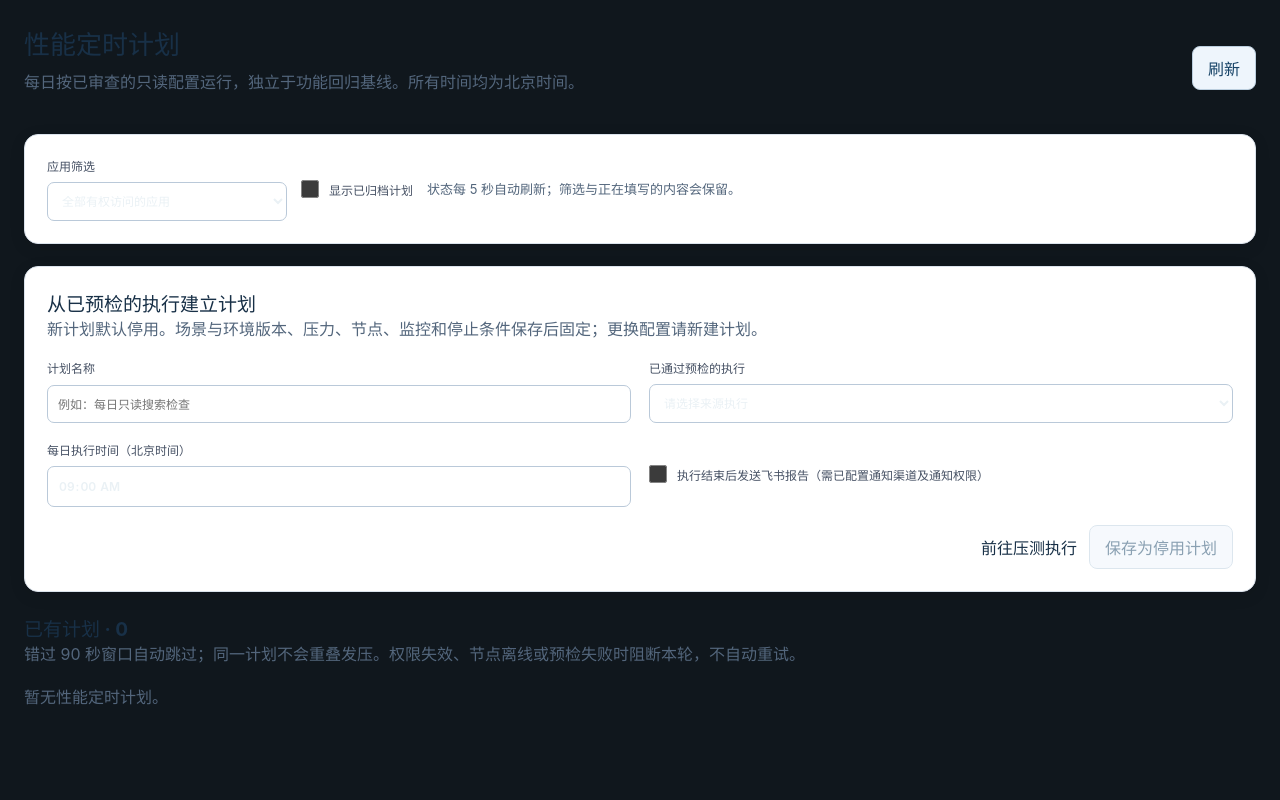
creates only disabled schedules with explicit notification choice
Type "每日检查" into the field named "name". click: (339,404)
box: top-left (47, 385), bottom-right (631, 423)
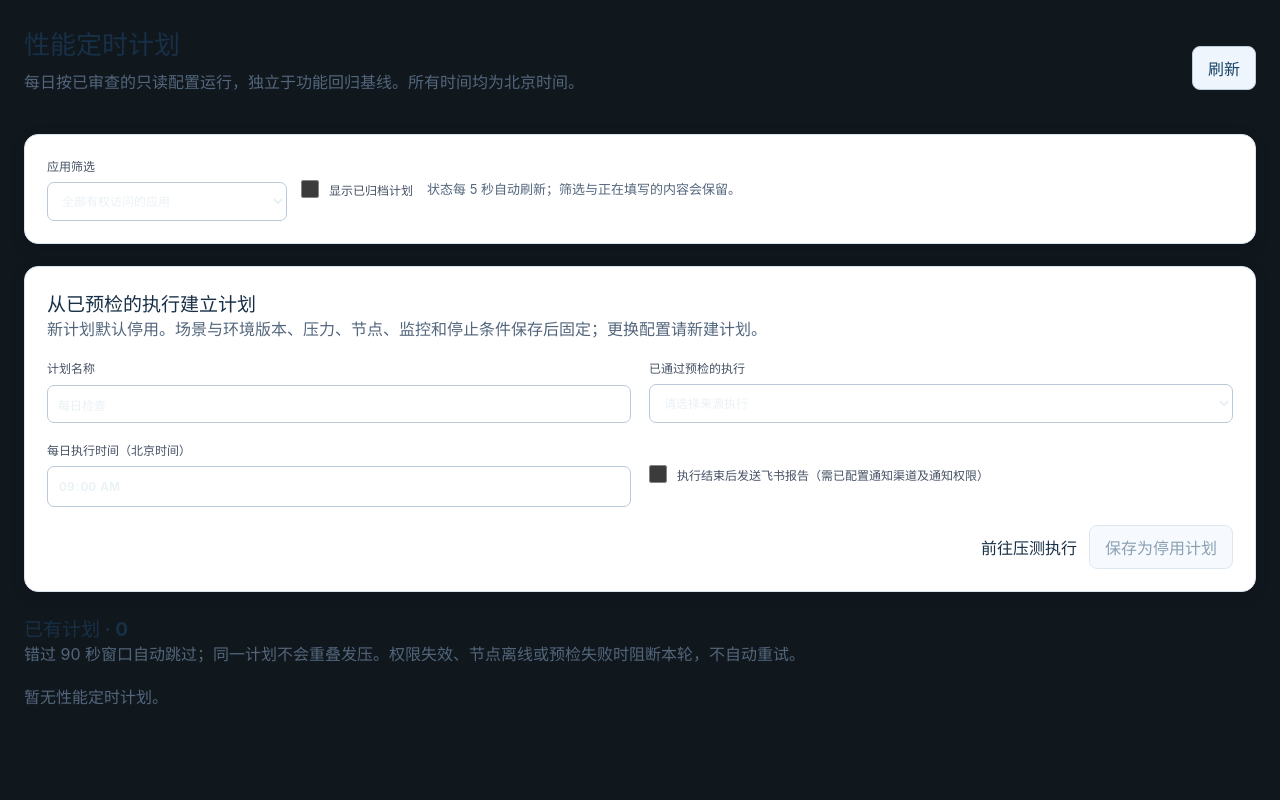
Select "只读查询 · 固定环境 · r1" in the dropdown named "source". click: (941,404)
box: top-left (649, 384), bottom-right (1233, 423)
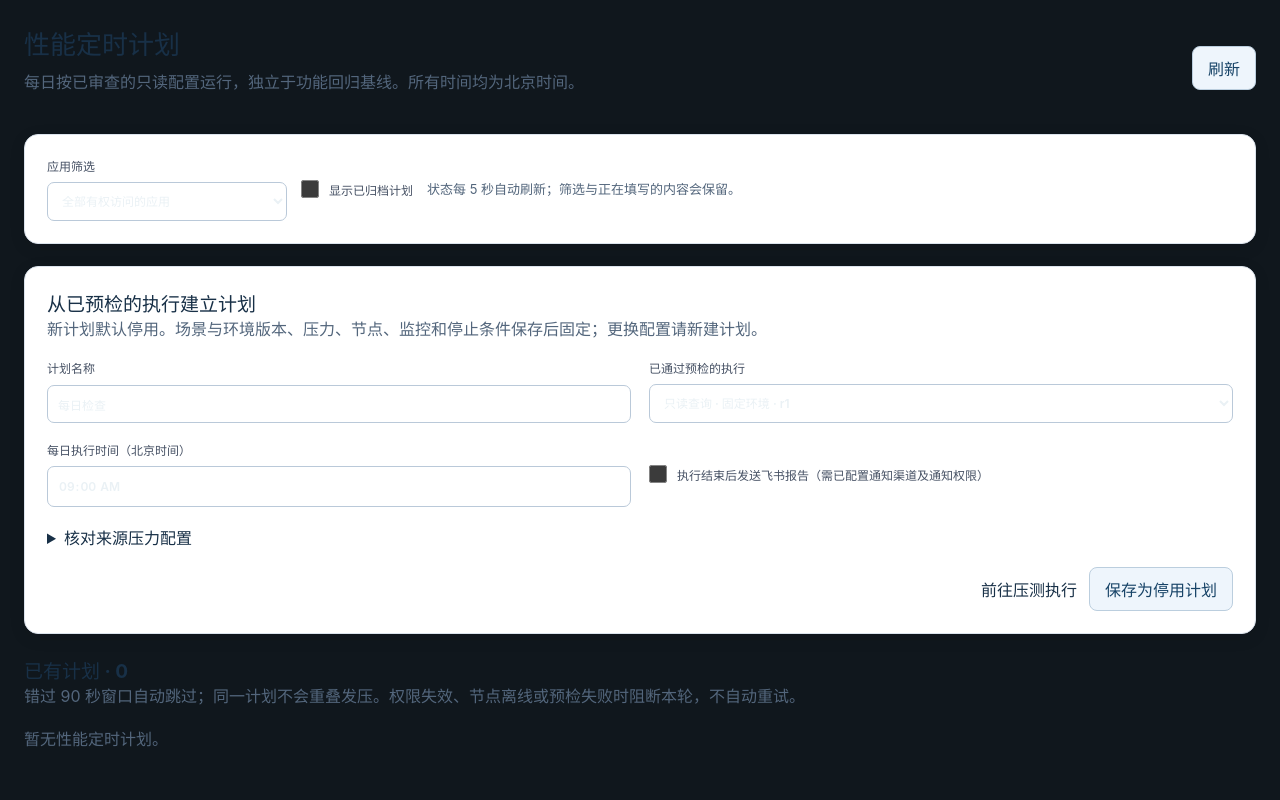
Expected: the text "默认停用" is shown, top-left (47, 319), bottom-right (767, 339)
Submit the form, box top-left (47, 359), bottom-right (1233, 611)
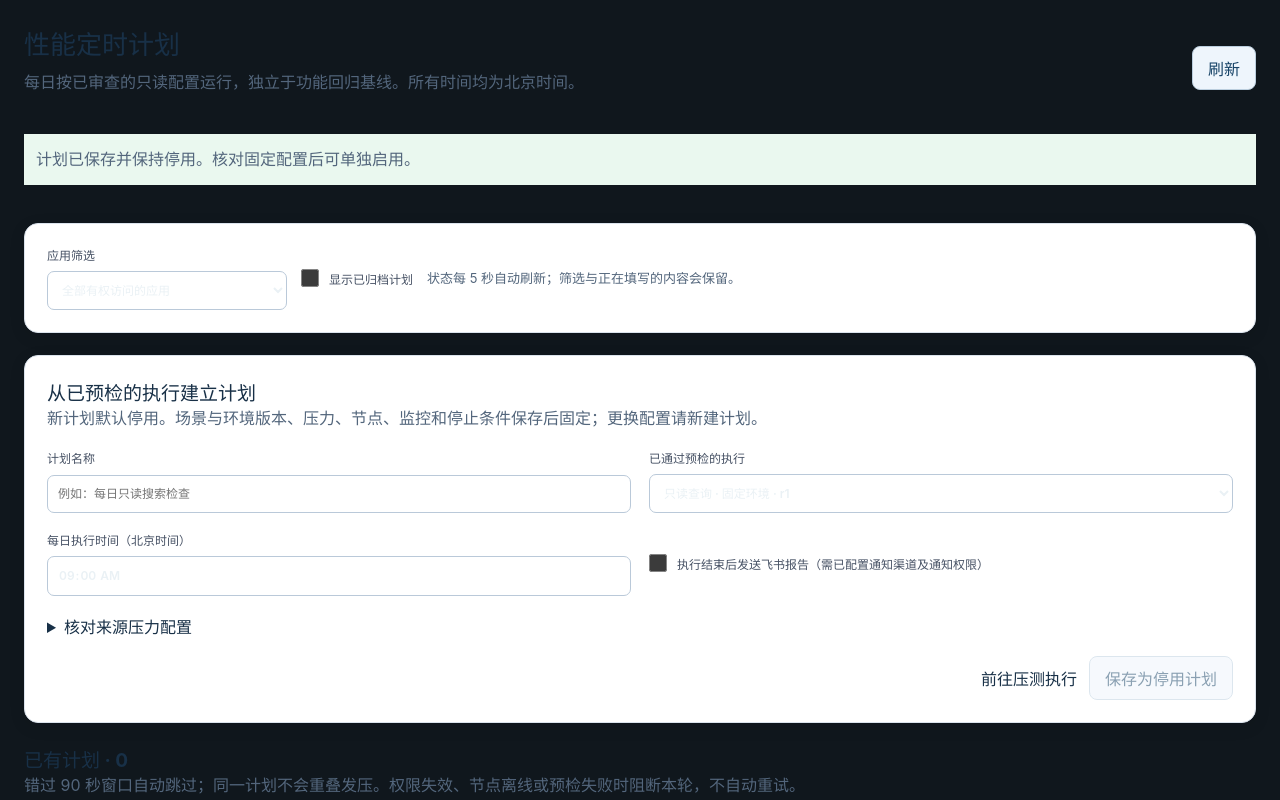
Expected: the text "计划已保存并保持停用" is shown, top-left (36, 149), bottom-right (420, 169)
